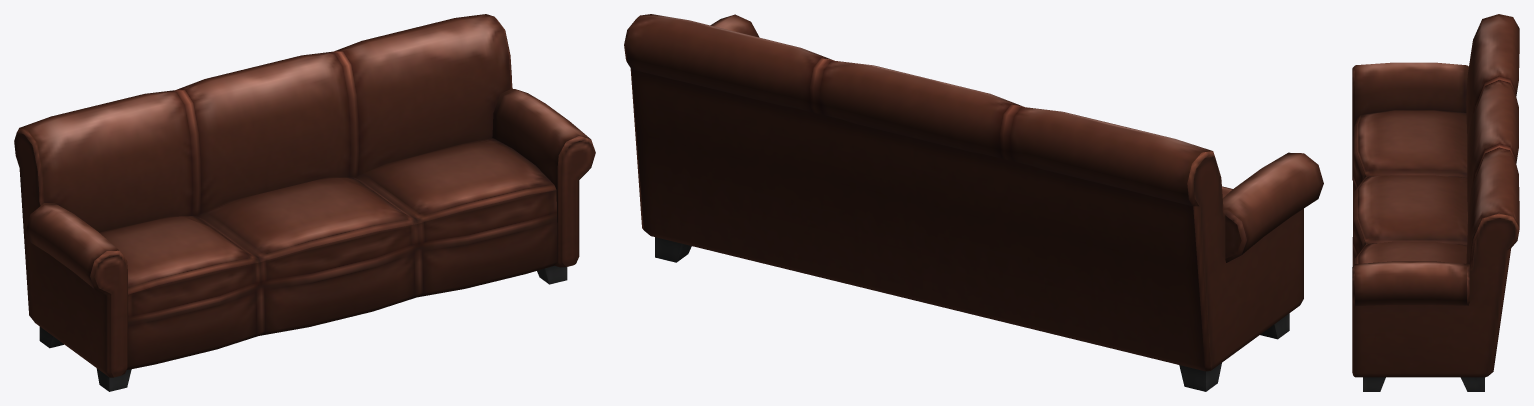
Rendered from sofa.dae.
The picture shows the model from 3 angles, left to right: view 1: azimuth 30°, elevation 25°; view 2: azimuth 150°, elevation 25°; view 3: azimuth 270°, elevation 25°; orthographic projection. The views are drawn at different scales.
Parts seen in each view (by area): view 1: sofaLeatherMeshLOD1; view 2: sofaLeatherMeshLOD1; view 3: sofaLeatherMeshLOD1.
Boxes of the visible parts, <box> form: sofaLeatherMeshLOD1: <box>14,14,595,391</box>; sofaLeatherMeshLOD1: <box>624,14,1323,391</box>; sofaLeatherMeshLOD1: <box>1352,14,1519,391</box>.
Bounding box in the file's own units: 2.5 × 0.9924 × 0.819.
